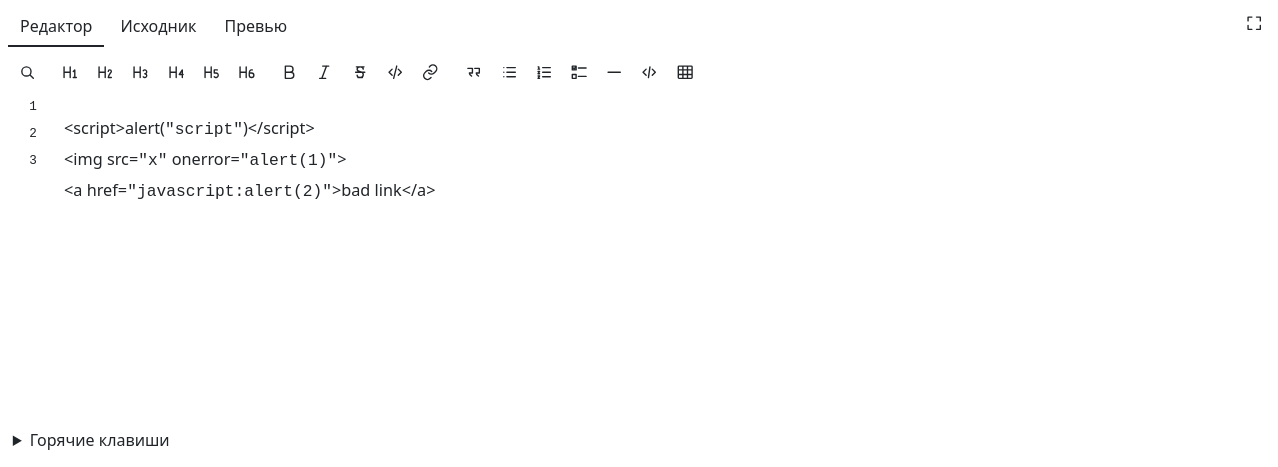
Test case: MarkdownEditorComponent image capability › keeps preview output on the centralized sanitizer boundary
This screenshot has width=1278, height=467.
Click the tab with test id "markdown-editor-preview-tab" at (256, 27), box [212,6,299,47]
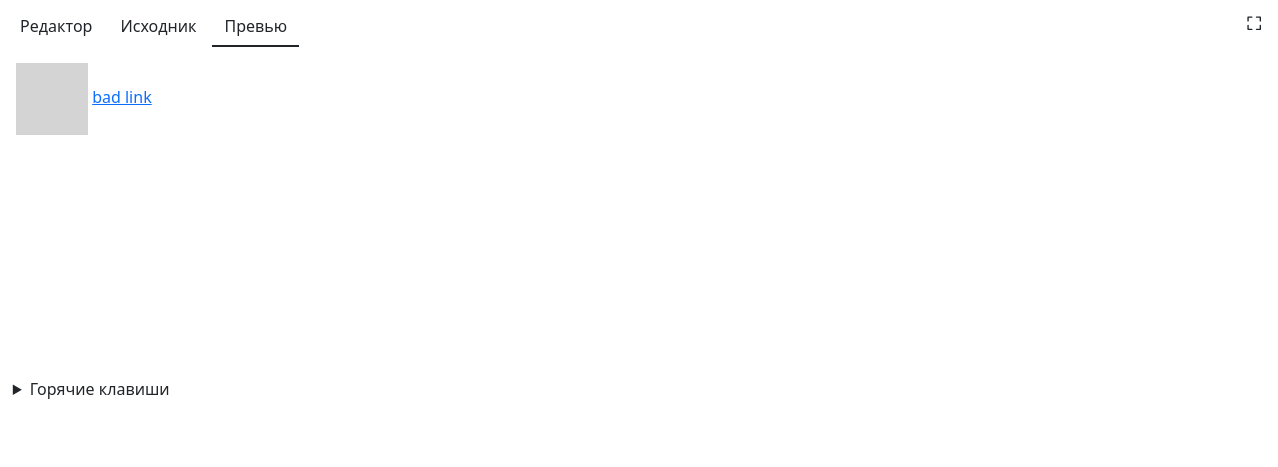
Result: the field with test id "markdown-editor-preview-content" no longer shows "onerror"
